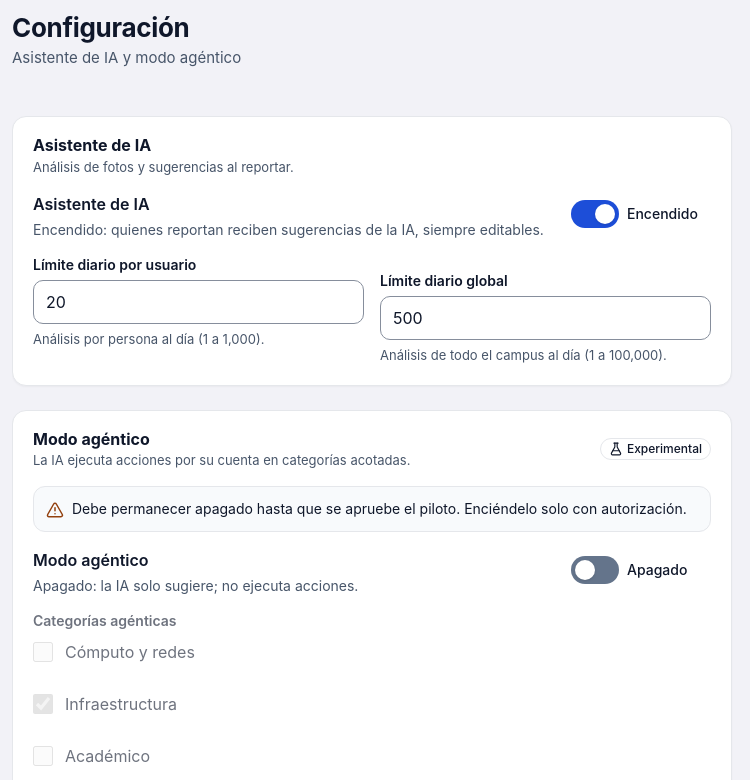
Test: AdminConfiguracion › descartar regresa a los valores guardados
Replace the text in the number field labelled "Límite diario global" with "900" at (546, 318), box 380,296 -> 711,340
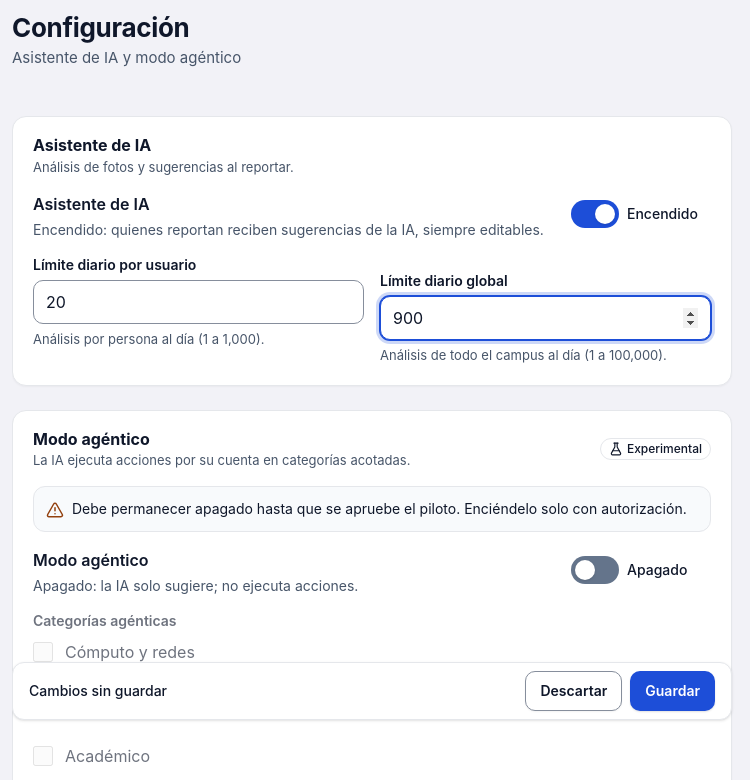
Click the button "Descartar".
click(574, 691)  # box 526,671 -> 622,711
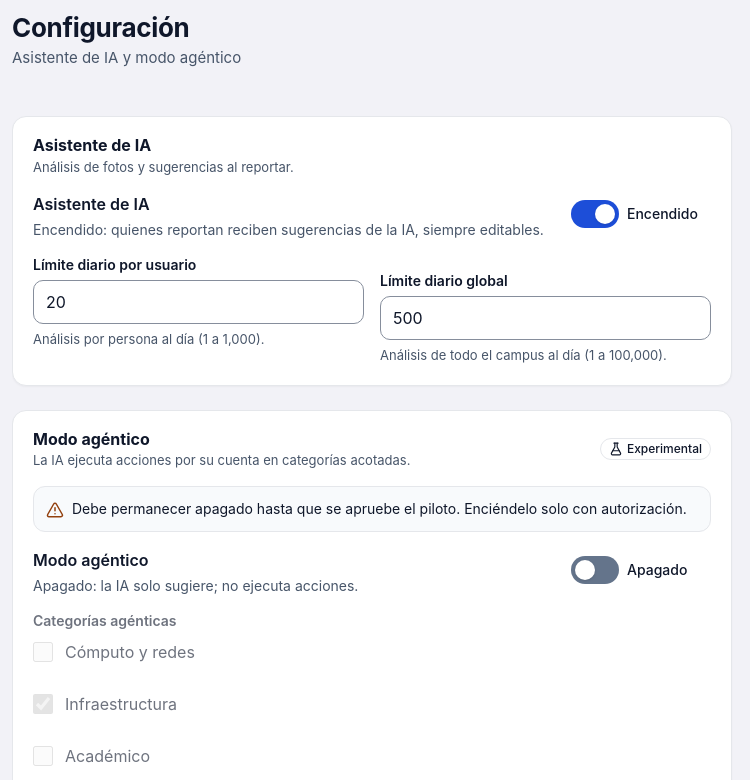
Check: the number field labelled "Límite diario global" holds "500", box 380,296 -> 711,340
